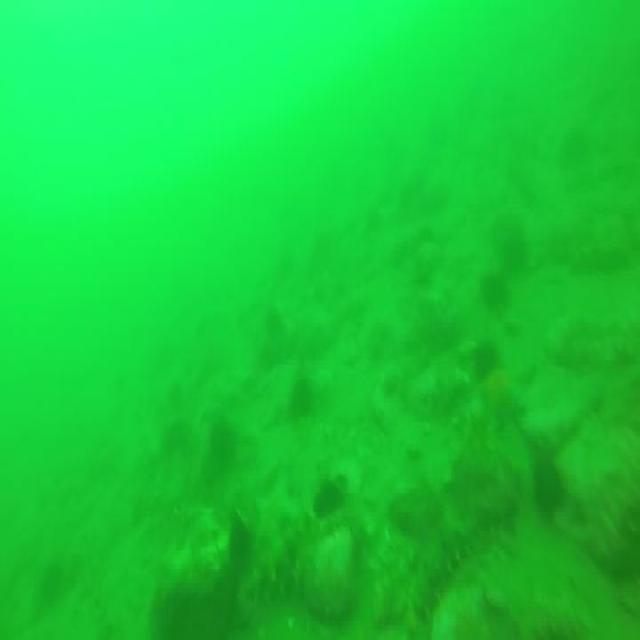echinus: (306, 483, 343, 520), (533, 461, 561, 509), (292, 371, 316, 414), (208, 425, 234, 463), (482, 277, 511, 308), (475, 335, 497, 375)
holothurian: (400, 502, 483, 640)
